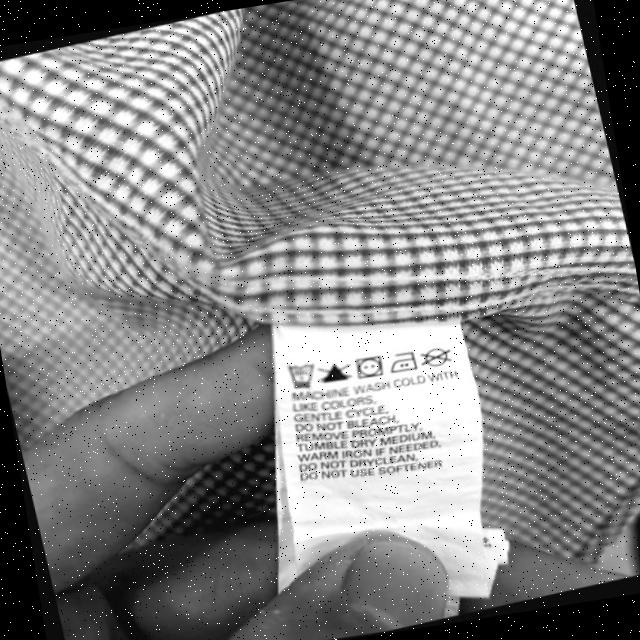ER_iron_medium_temp: (387, 350, 419, 376)
ER_no_bleach: (318, 358, 352, 384)
ER_no_dry_clean: (422, 348, 450, 370)
ER_tumble_dry_normal_heat: (354, 353, 385, 380)
